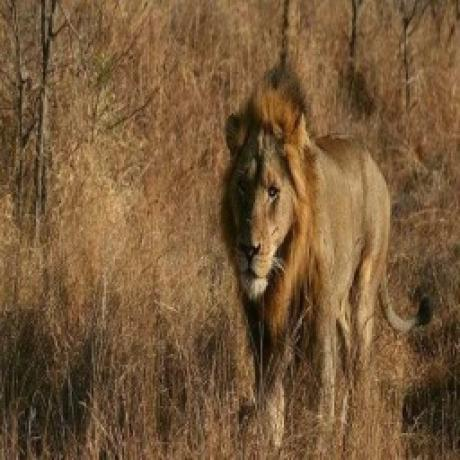Lion: (218, 63, 430, 392)
